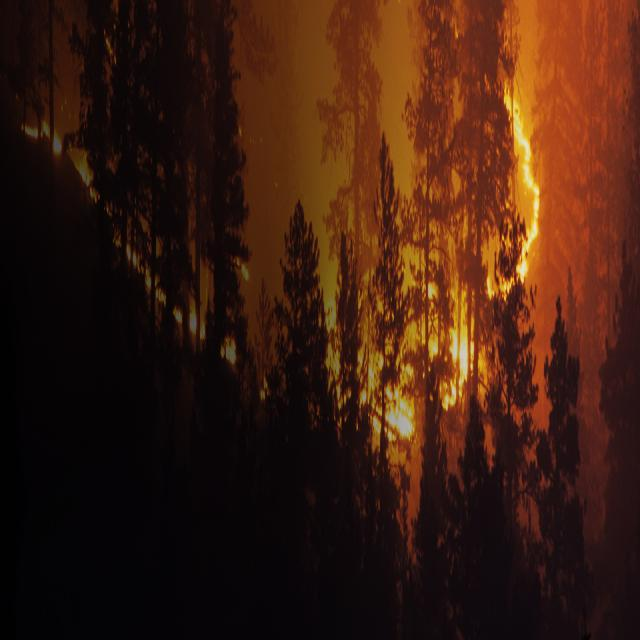Fire: (19, 108, 249, 374), (497, 66, 542, 308), (374, 352, 418, 460), (448, 314, 473, 394)
